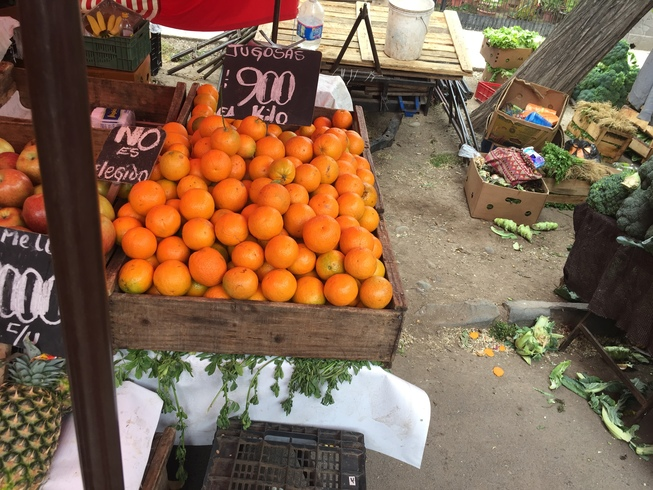precio: (217, 38, 325, 137), (1, 239, 86, 342), (85, 121, 170, 190)
